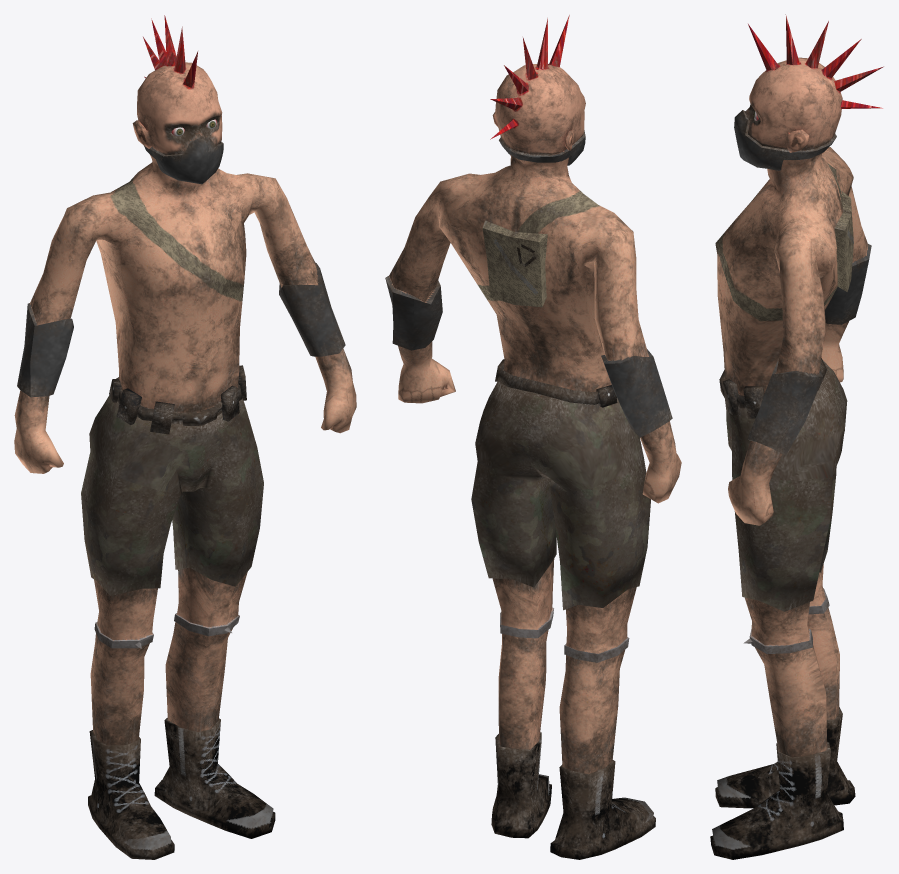
The model's file is Anim_disparar_pistola_npc2.0032.obj.
3 renders of one model, left to right at view 1: azimuth 30°, elevation 25°; view 2: azimuth 150°, elevation 25°; view 3: azimuth 270°, elevation 25°, orthographic. The views are drawn at different scales.
Parts seen in each view (by area): view 1: polySurface1; view 2: polySurface1; view 3: polySurface1.
Boxes of the visible parts, box(x1,y1,x2,y2) form: polySurface1: box(14, 15, 356, 859); polySurface1: box(385, 15, 681, 859); polySurface1: box(710, 14, 883, 859).
Size of the model in its own units: 4.1 by 10.24 by 1.99.
Materials: 2 (2 with a texture image).
